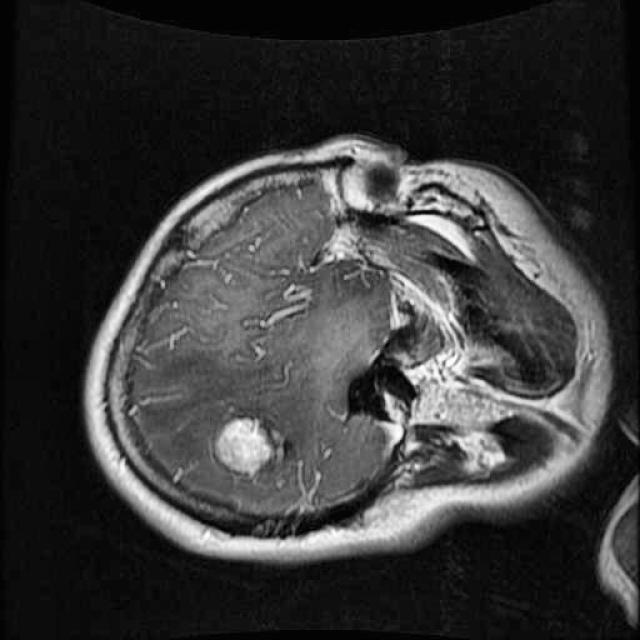Tumor: (206, 405, 300, 489)
